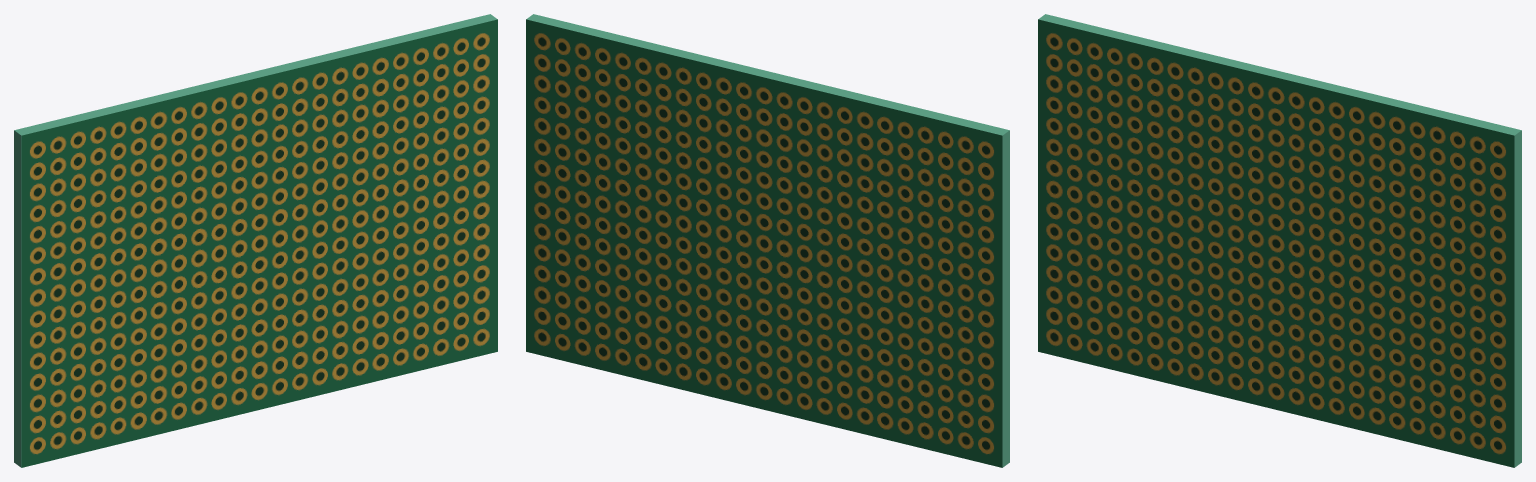
Rendered from protoboard.glb.
3 views of the same model, side by side, from view 1: azimuth 30°, elevation 25°; view 2: azimuth 150°, elevation 25°; view 3: azimuth 330°, elevation 25° (orthographic).
Visible parts, largest first — view 1: pads-top, fr4; view 2: pads-top, fr4; view 3: pads-top, fr4.
Boxes of the visible parts, <box> form: pads-top: <box>21,19,497,467</box>; fr4: <box>14,14,497,467</box>; pads-top: <box>526,19,1002,467</box>; fr4: <box>526,14,1009,467</box>; pads-top: <box>1038,19,1514,467</box>; fr4: <box>1038,14,1521,467</box>.
Bounding box in the file's own units: 0.06 × 0.04 × 0.00162.
Materials: 2 (1 with a texture image).
